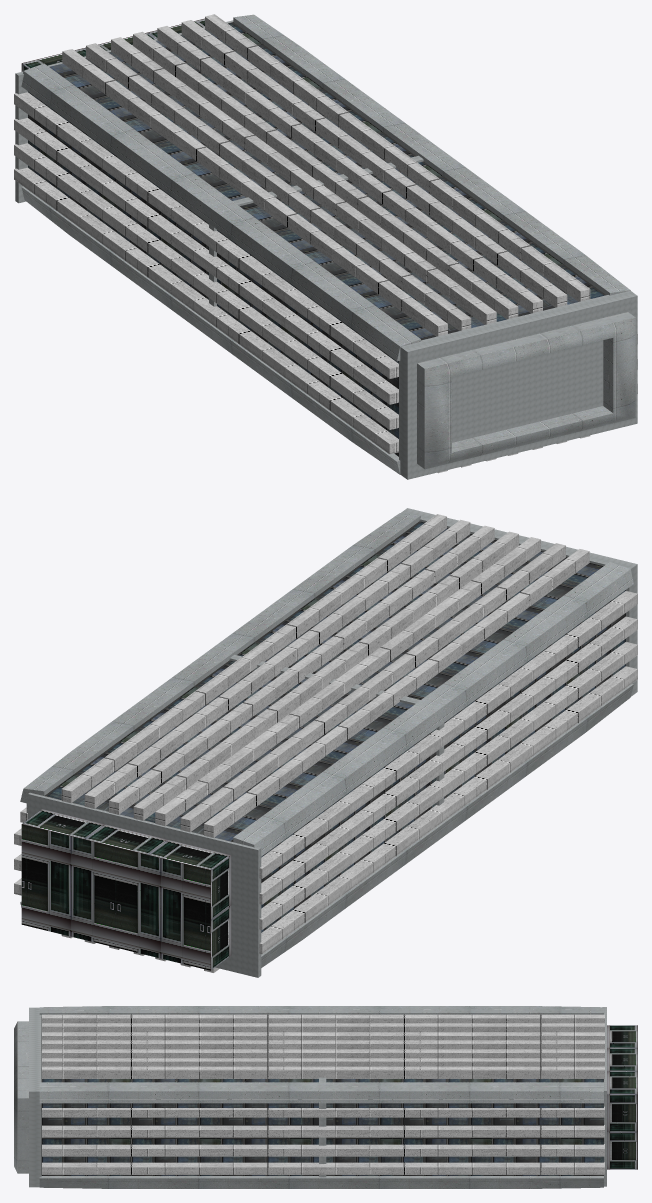
The model's file is skyscraper_windowB_01.obj.
3 views of the same model, one above another, from view 1: azimuth 30°, elevation 25°; view 2: azimuth 150°, elevation 25°; view 3: azimuth 270°, elevation 25° (orthographic). The views are drawn at different scales.
Visible parts, largest first — view 1: Object29; view 2: Object29; view 3: Object29.
Boxes of the visible parts, x1,y1,x2,y2 form: Object29: (14, 14, 637, 479); Object29: (14, 508, 637, 977); Object29: (14, 1006, 637, 1188).
Size of the model in its own units: 50.36 by 28.49 by 146.
Materials: 4 (4 with a texture image).
